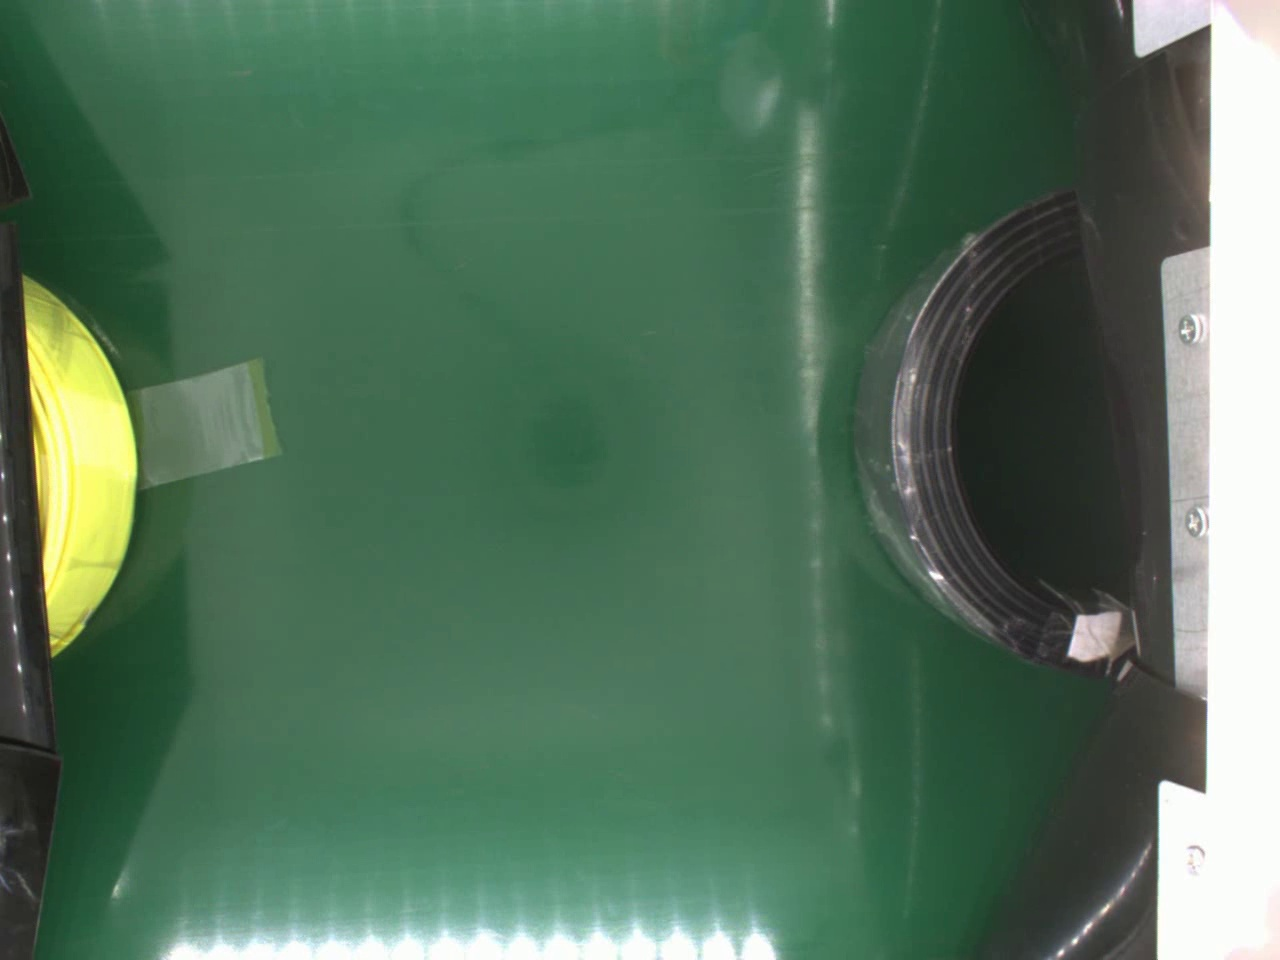black: (847, 192, 1128, 678)
